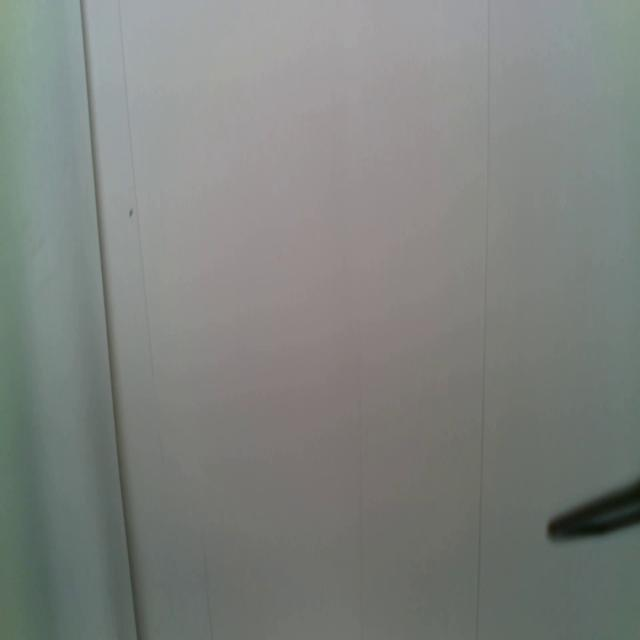crease: (79, 0, 137, 640), (118, 0, 154, 372), (476, 0, 491, 639), (356, 391, 366, 640), (201, 532, 216, 640)
hole: (128, 204, 134, 218)
